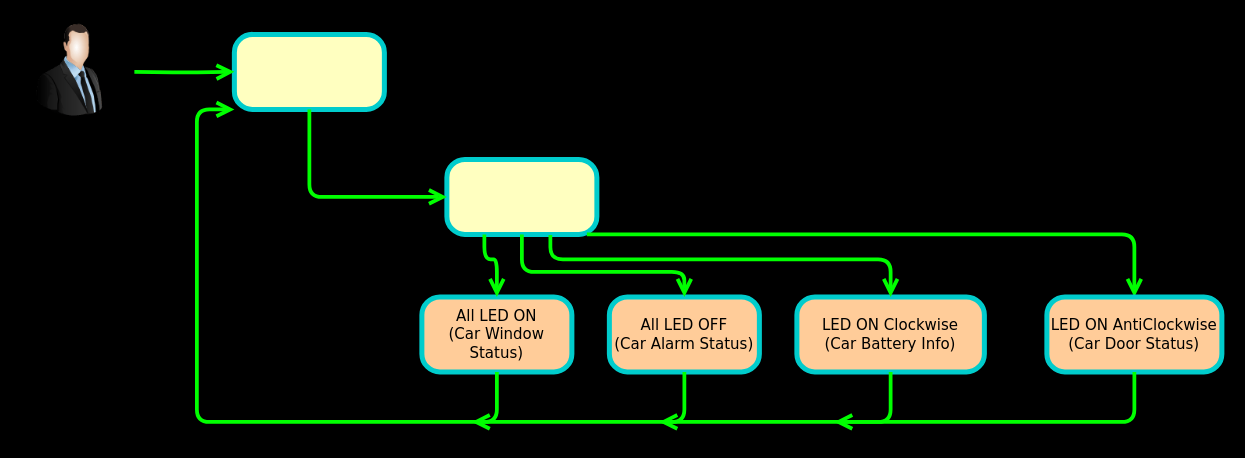
Image size: 1245x458. Some labels were removed from this diagram. Each missing label, with the centre of its shape:
"Condition (No of times pressed(1/2/3/4))" goes at point (521, 196).
"User Button Press" goes at point (308, 71).
